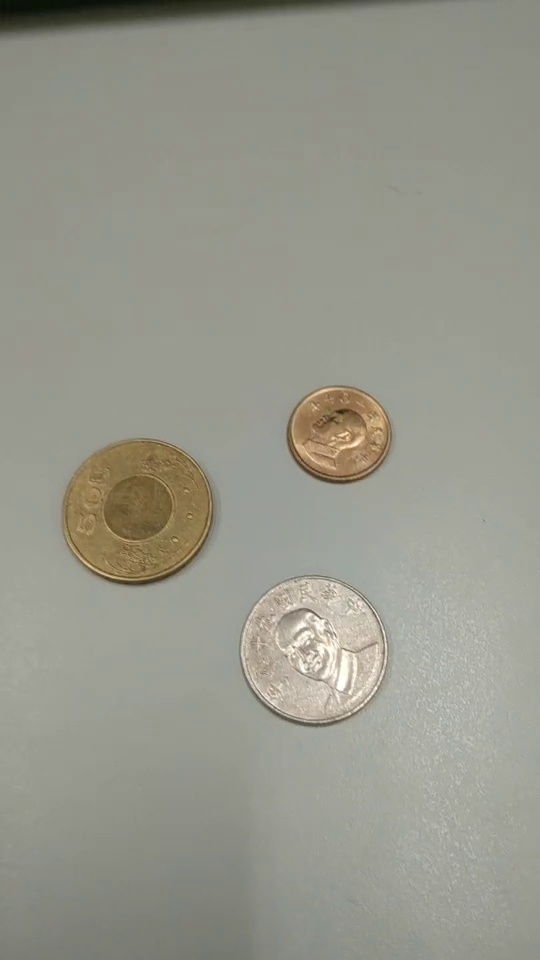NT$ 1: (286, 384, 392, 487)
NT$ 10: (239, 575, 388, 728)
NT$ 50: (64, 438, 214, 587)
